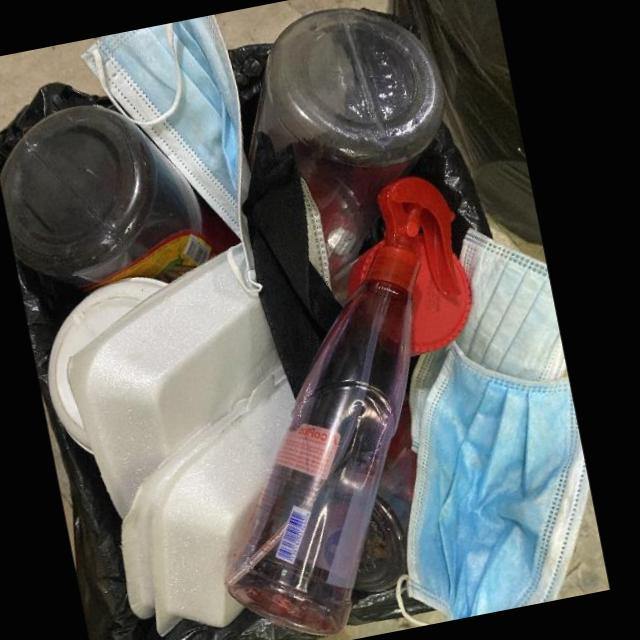chai_nhua: (224, 247, 420, 638), (256, 6, 446, 306)
hop_nhua: (0, 105, 212, 292)
khau_trang: (407, 344, 590, 621), (81, 15, 242, 241), (410, 230, 567, 450), (241, 129, 342, 400)
xop: (68, 243, 287, 520), (120, 367, 296, 637)
